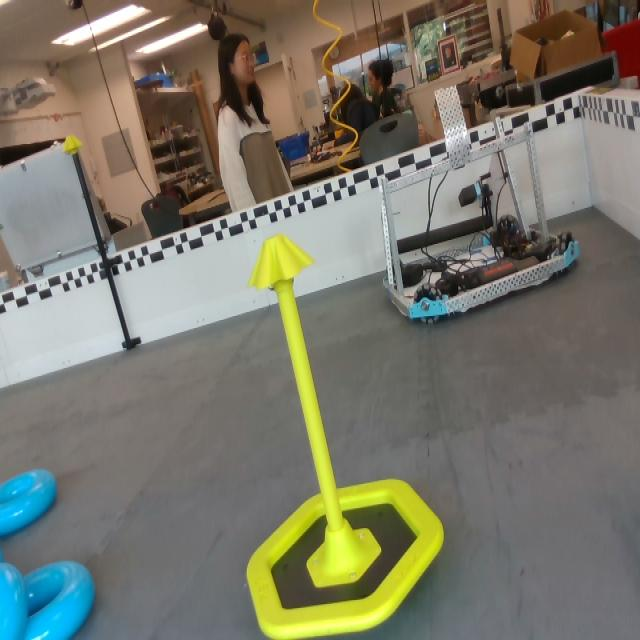Blue-Ring: (24, 561, 95, 639), (0, 469, 59, 544), (0, 563, 25, 639)
Mobile-Goal: (244, 239, 441, 639)
Yellow-Stake-Head: (244, 235, 315, 288), (63, 134, 83, 154)
